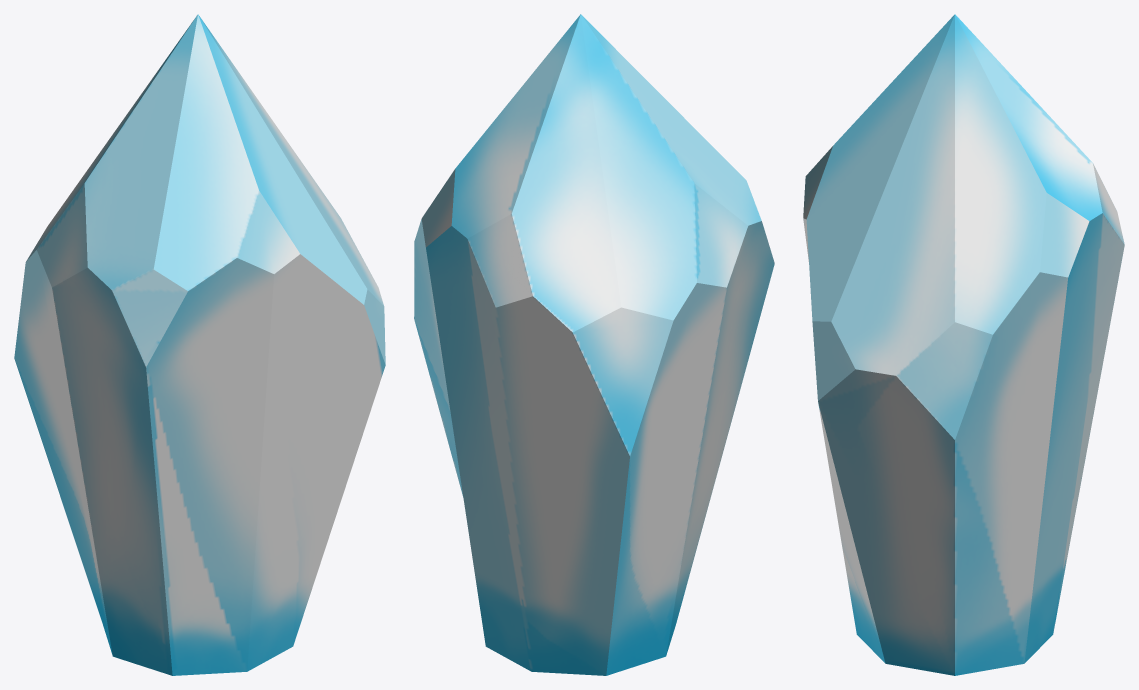
Rendered from Crystal.fbx.
3 renders of one model, left to right at view 1: azimuth 30°, elevation 25°; view 2: azimuth 150°, elevation 25°; view 3: azimuth 270°, elevation 25°, orthographic.
Parts seen in each view (by area): view 1: Circle; view 2: Circle; view 3: Circle.
Part boxes in pixels (x1=…): Circle: x1=14, y1=14, x2=385, y2=675; Circle: x1=414, y1=14, x2=774, y2=675; Circle: x1=803, y1=14, x2=1124, y2=675.
Size of the model in its own units: 167 by 317 by 149.
